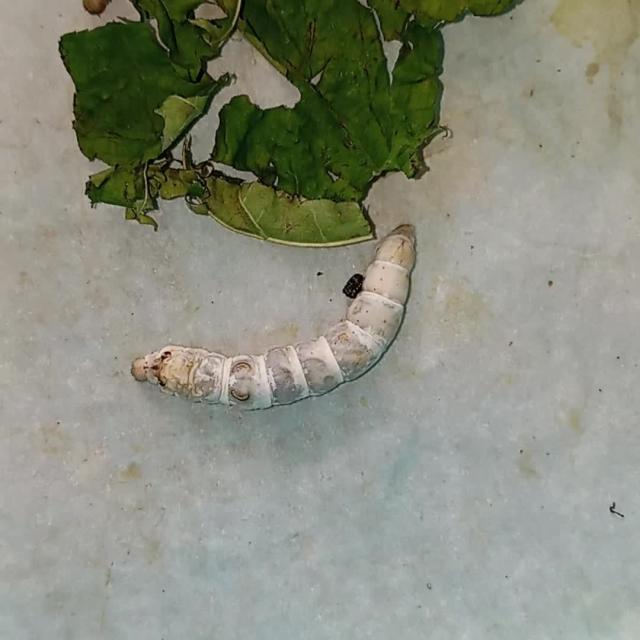Grasserie: (122, 222, 434, 429)
